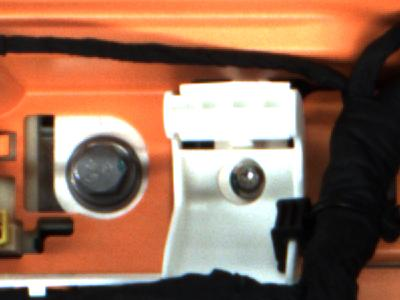nut_b: (61, 128, 155, 211)
